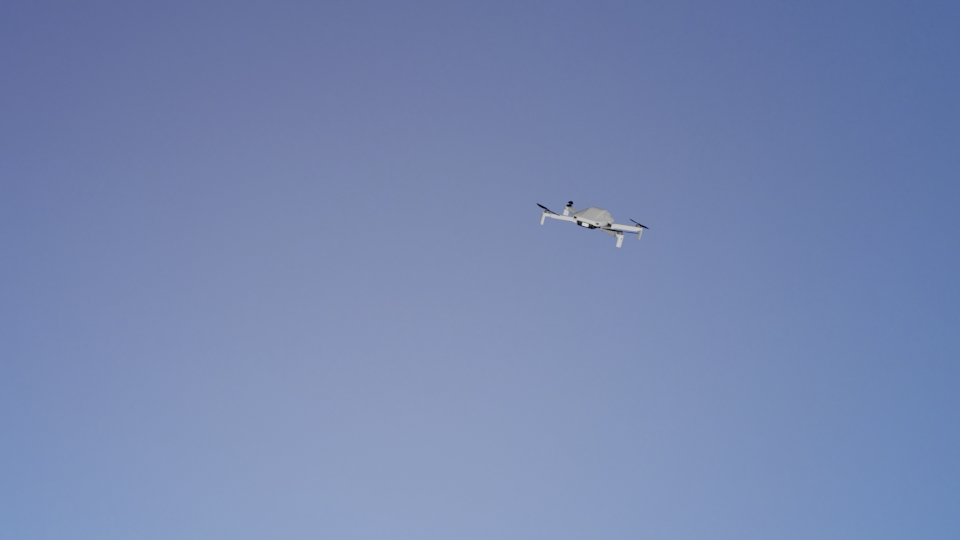drone: (534, 199, 651, 250)
